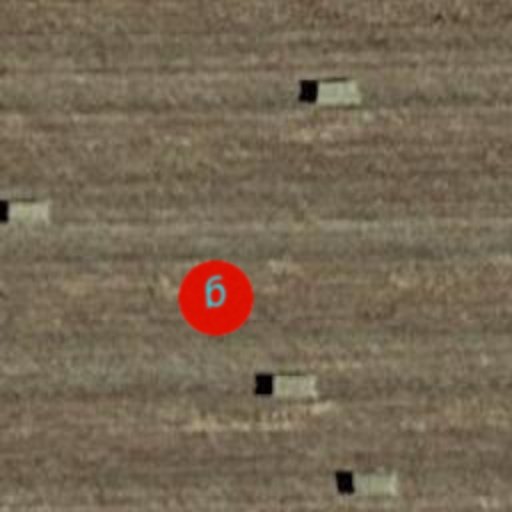circle: (168, 250, 264, 346)
